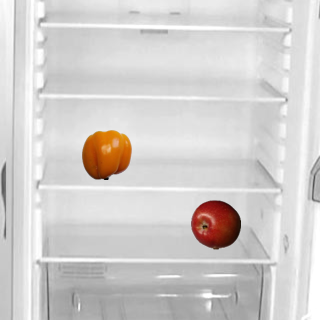Apple Braeburn: (190, 199, 240, 249)
Pepper Yellow: (81, 129, 131, 179)
